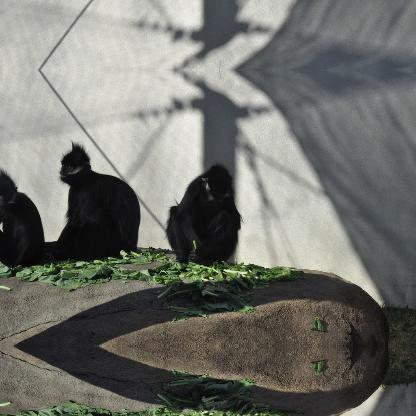Monkey: (48, 140, 138, 260), (167, 161, 239, 269), (0, 165, 49, 269)
